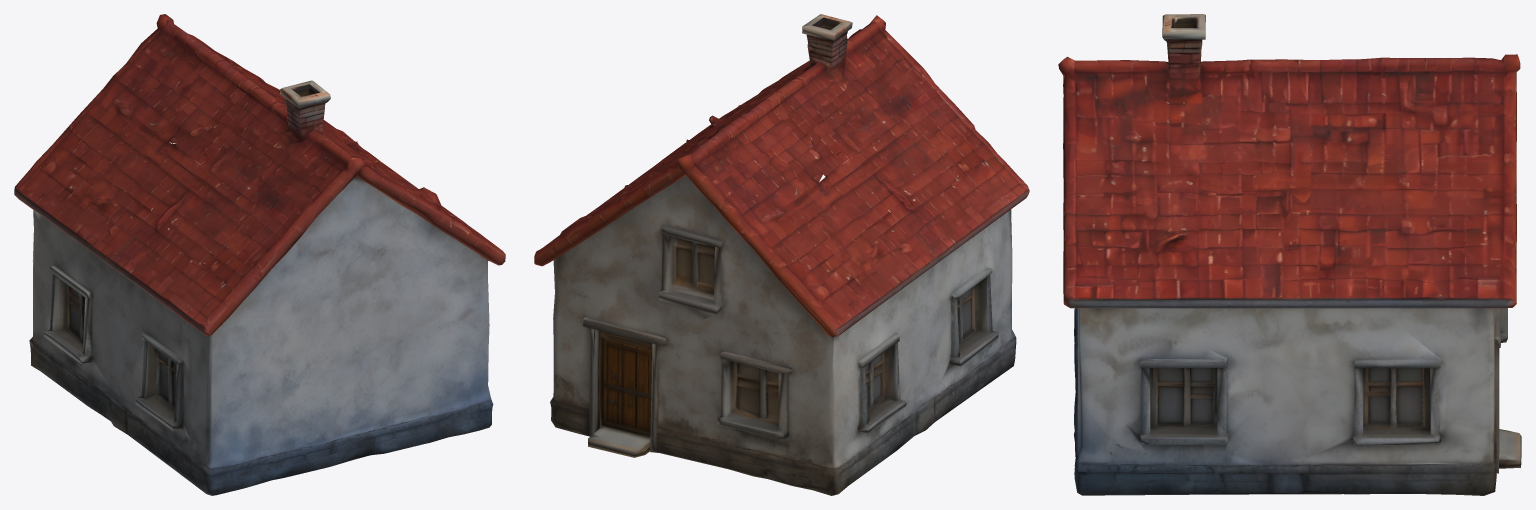
The model's file is house.glb.
3 views of the same model, side by side, from view 1: azimuth 30°, elevation 25°; view 2: azimuth 150°, elevation 25°; view 3: azimuth 270°, elevation 25° (orthographic). The views are drawn at different scales.
Parts seen in each view (by area): view 1: body; view 2: body; view 3: body.
Part boxes in pixels (<box>): body: <box>14,14,505,495</box>; body: <box>534,14,1029,495</box>; body: <box>1058,14,1521,495</box>.
Bounding box in the file's own units: 6.67 × 7.14 × 7.6.
Materials: 1 (1 with a texture image).
